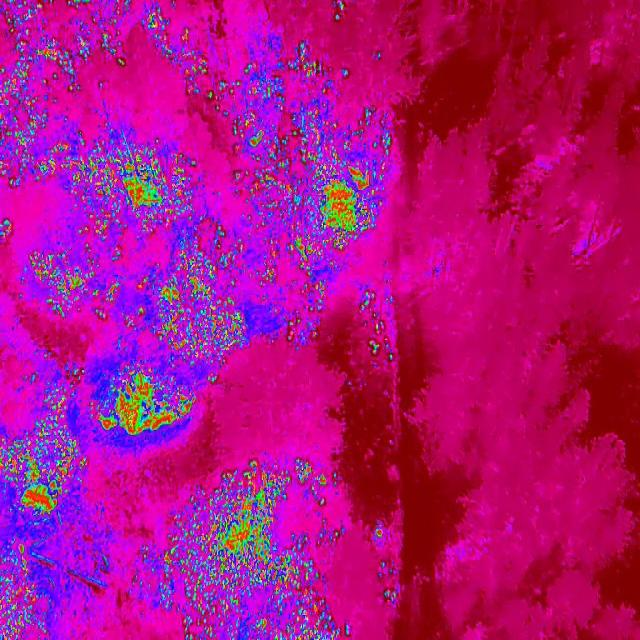fire: (138, 457, 359, 640), (289, 99, 396, 273), (135, 228, 248, 364), (72, 128, 200, 236), (0, 0, 132, 101), (232, 156, 297, 289), (24, 246, 126, 323), (0, 432, 88, 520), (96, 363, 195, 438), (208, 61, 286, 156), (139, 2, 211, 99), (0, 99, 73, 190), (0, 539, 41, 640), (39, 368, 89, 433), (286, 276, 328, 352), (360, 285, 394, 367), (290, 38, 324, 84), (0, 213, 18, 243), (369, 518, 387, 544), (382, 584, 400, 610)
